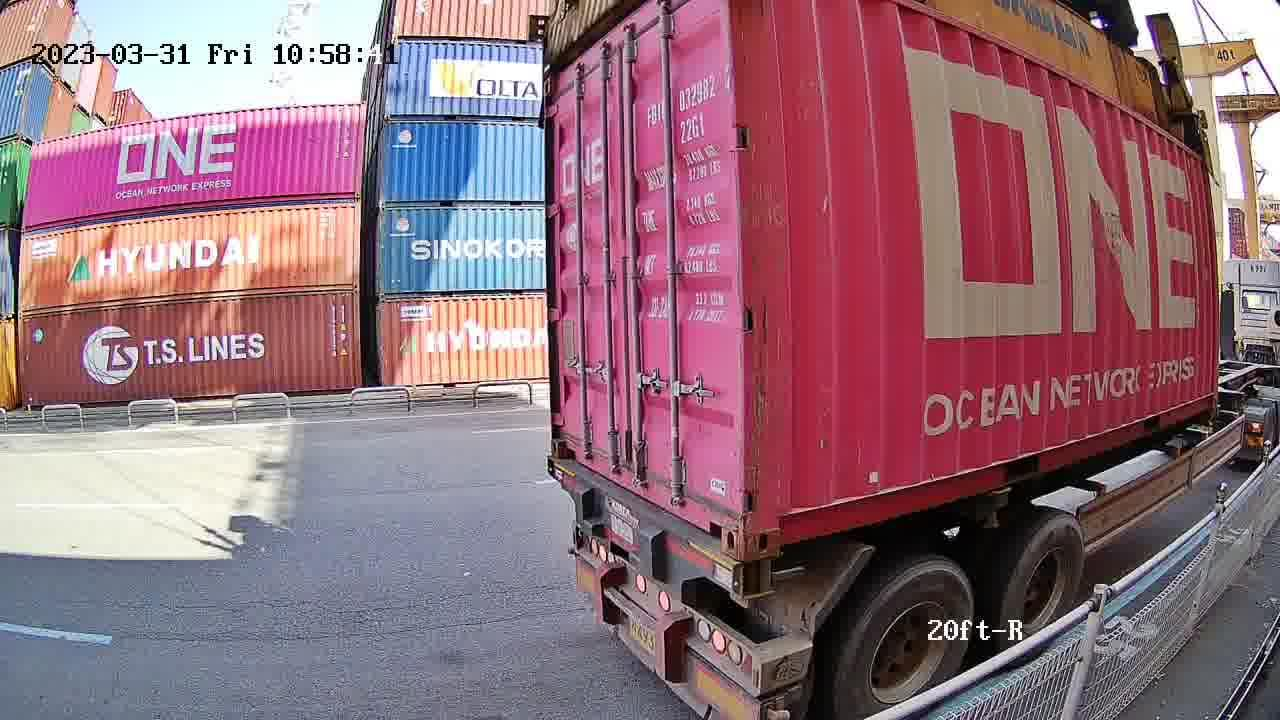Chassis: (547, 458, 775, 597)
Cone: (742, 556, 781, 601)
Hole_L: (740, 480, 805, 562), (549, 414, 584, 467)
Hole_R: (691, 471, 740, 561)
Tire: (836, 560, 975, 719), (1001, 515, 1088, 663)
